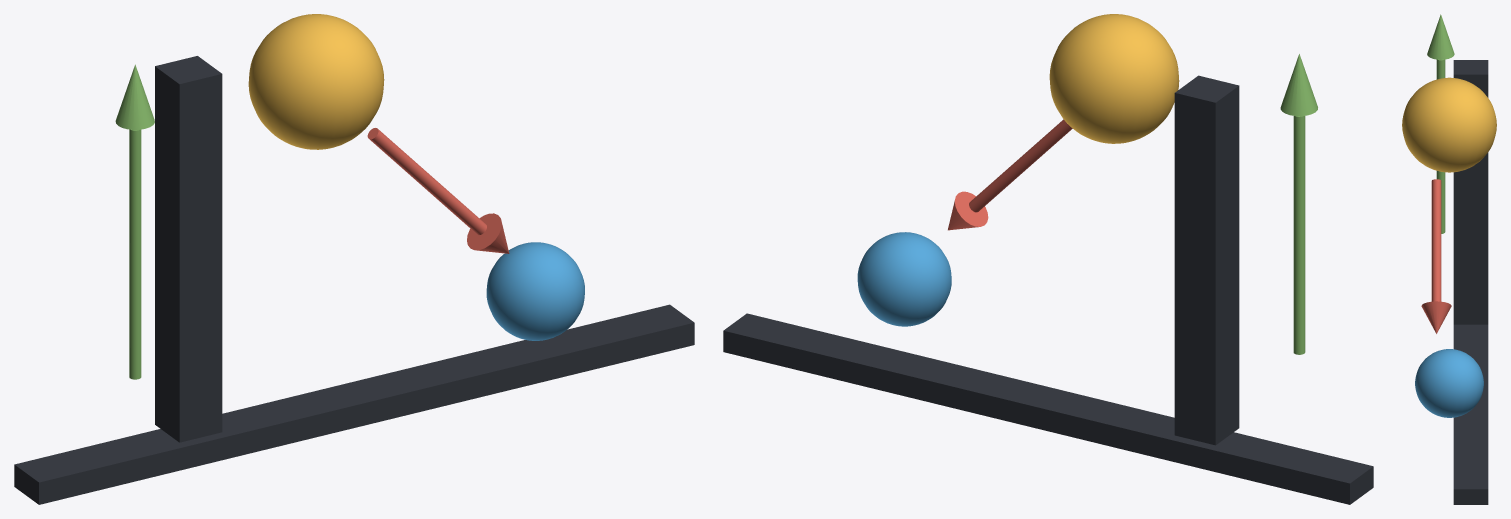
Rendered from physics-p1-potential-energy.glb.
The picture shows the model from 3 angles, left to right: view 1: azimuth 30°, elevation 25°; view 2: azimuth 150°, elevation 25°; view 3: azimuth 270°, elevation 25°; orthographic projection. The views are drawn at different scales.
Visible parts, largest first — view 1: energy-bench-reference-base, height-reference-tower, raised-ball-stored-potential-energy, lower-ball-less-potential-energy, height-increases-stored-energy-shaft, potential-can-become-motion-shaft, height-increases-stored-energy-head, potential-can-become-motion-head; view 2: energy-bench-reference-base, height-reference-tower, raised-ball-stored-potential-energy, lower-ball-less-potential-energy, height-increases-stored-energy-shaft, potential-can-become-motion-shaft, height-increases-stored-energy-head, potential-can-become-motion-head; view 3: raised-ball-stored-potential-energy, height-reference-tower, energy-bench-reference-base, lower-ball-less-potential-energy, potential-can-become-motion-shaft, height-increases-stored-energy-head, potential-can-become-motion-head, height-increases-stored-energy-shaft.
Boxes of the visible parts, x1,y1,x2,y2 form: energy-bench-reference-base: (14,304,694,504); height-reference-tower: (155,56,222,442); raised-ball-stored-potential-energy: (248,14,384,149); lower-ball-less-potential-energy: (486,242,584,340); height-increases-stored-energy-shaft: (129,129,141,379); potential-can-become-motion-shaft: (367,128,486,234); height-increases-stored-energy-head: (115,64,154,129); potential-can-become-motion-head: (467,213,509,253); energy-bench-reference-base: (723,313,1373,504); height-reference-tower: (1174,75,1239,445); raised-ball-stored-potential-energy: (1049,14,1179,143); lower-ball-less-potential-energy: (857,232,951,326); height-increases-stored-energy-shaft: (1293,116,1305,354); potential-can-become-motion-shaft: (969,119,1072,212); height-increases-stored-energy-head: (1280,54,1317,116); potential-can-become-motion-head: (948,191,988,230); raised-ball-stored-potential-energy: (1402,77,1496,172); height-reference-tower: (1453,60,1488,324); energy-bench-reference-base: (1453,324,1488,504); lower-ball-less-potential-energy: (1415,349,1483,417); potential-can-become-motion-shaft: (1431,179,1441,301); height-increases-stored-energy-head: (1427,14,1454,59); potential-can-become-motion-head: (1421,301,1451,333); height-increases-stored-energy-shaft: (1436,59,1445,233).
Size of what is drawn, in the model's own units: 2.45 by 1.52 by 0.44.
